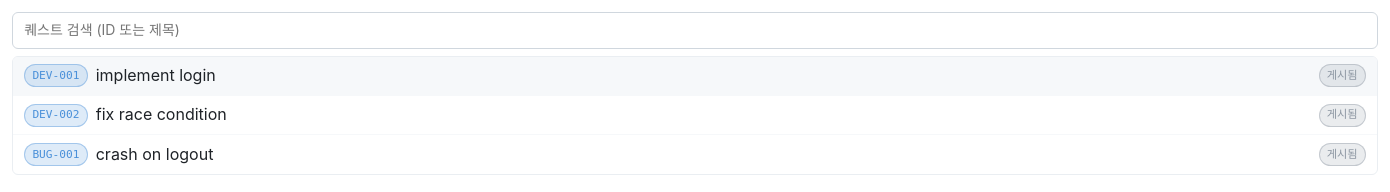
Scenario: QuestCombobox › filters by quest_id substring
Type "BUG" into the field with test id "quest-combobox-input".
click(695, 31); type("BUG")  # box [12,12,1378,49]
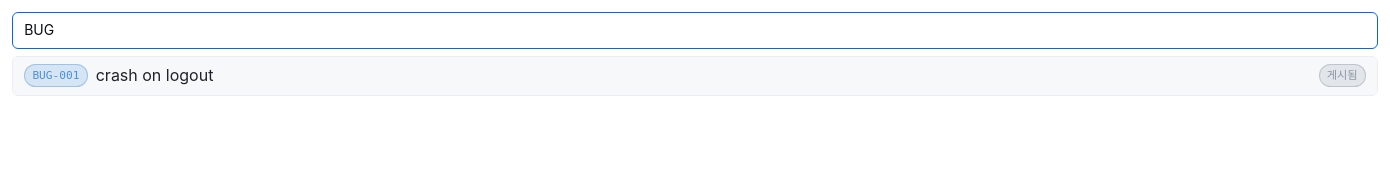
Check: the button with test id "quest-combobox-option" shows "BUG-001", box [13,57,1377,95]
Check: the number of buttons with test id "quest-combobox-option" is 1, box [13,57,1377,95]
